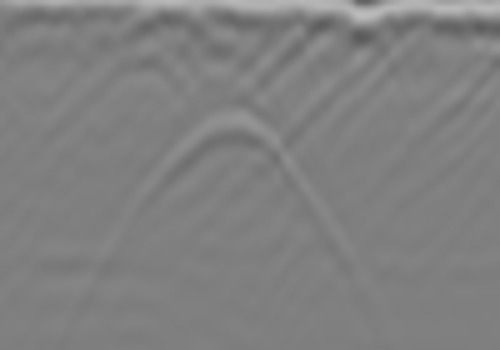hyperbola: (110, 96, 354, 345)
